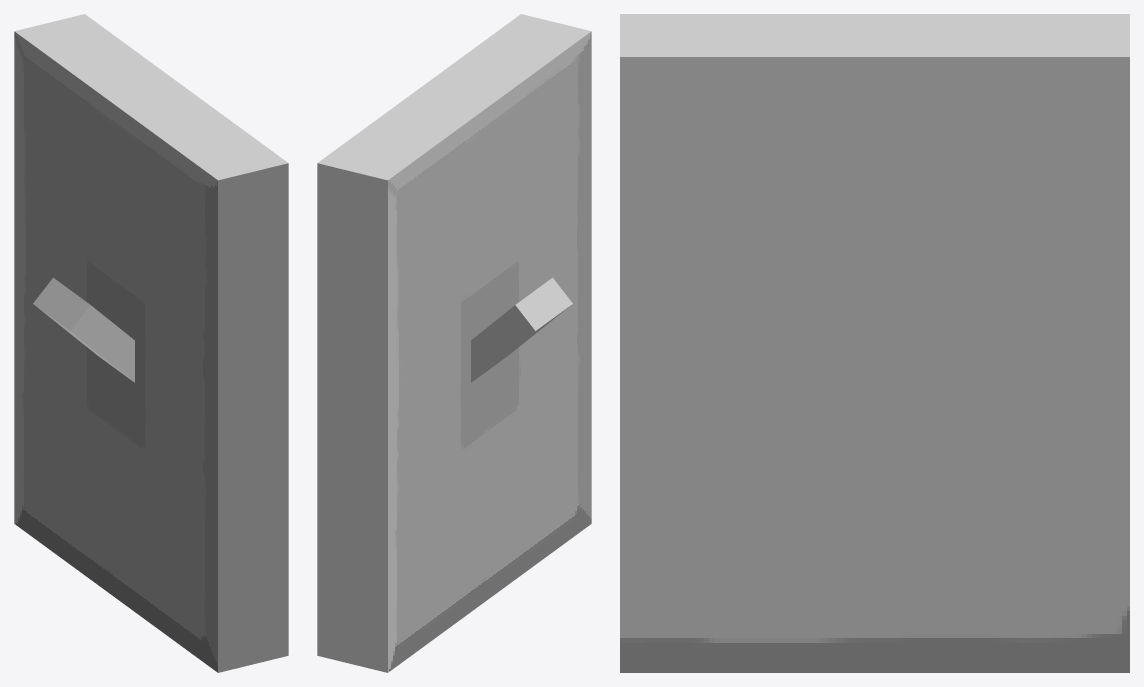
The model's file is lightswitch.gltf.
The picture shows the model from 3 angles, left to right: view 1: azimuth 30°, elevation 25°; view 2: azimuth 150°, elevation 25°; view 3: azimuth 270°, elevation 25°; orthographic projection. The views are drawn at different scales.
Visible parts, largest first — view 1: LightSwitch, Switch; view 2: LightSwitch, Switch; view 3: LightSwitch.
Part boxes in pixels (bbox=[...]): LightSwitch: bbox=[14, 14, 288, 672]; Switch: bbox=[33, 277, 134, 382]; LightSwitch: bbox=[317, 14, 591, 672]; Switch: bbox=[471, 277, 572, 382]; LightSwitch: bbox=[620, 14, 1129, 672].
Size of the model in its own units: 0.1148 by 0.4 by 0.3.
Materials: 2 (1 with a texture image).
